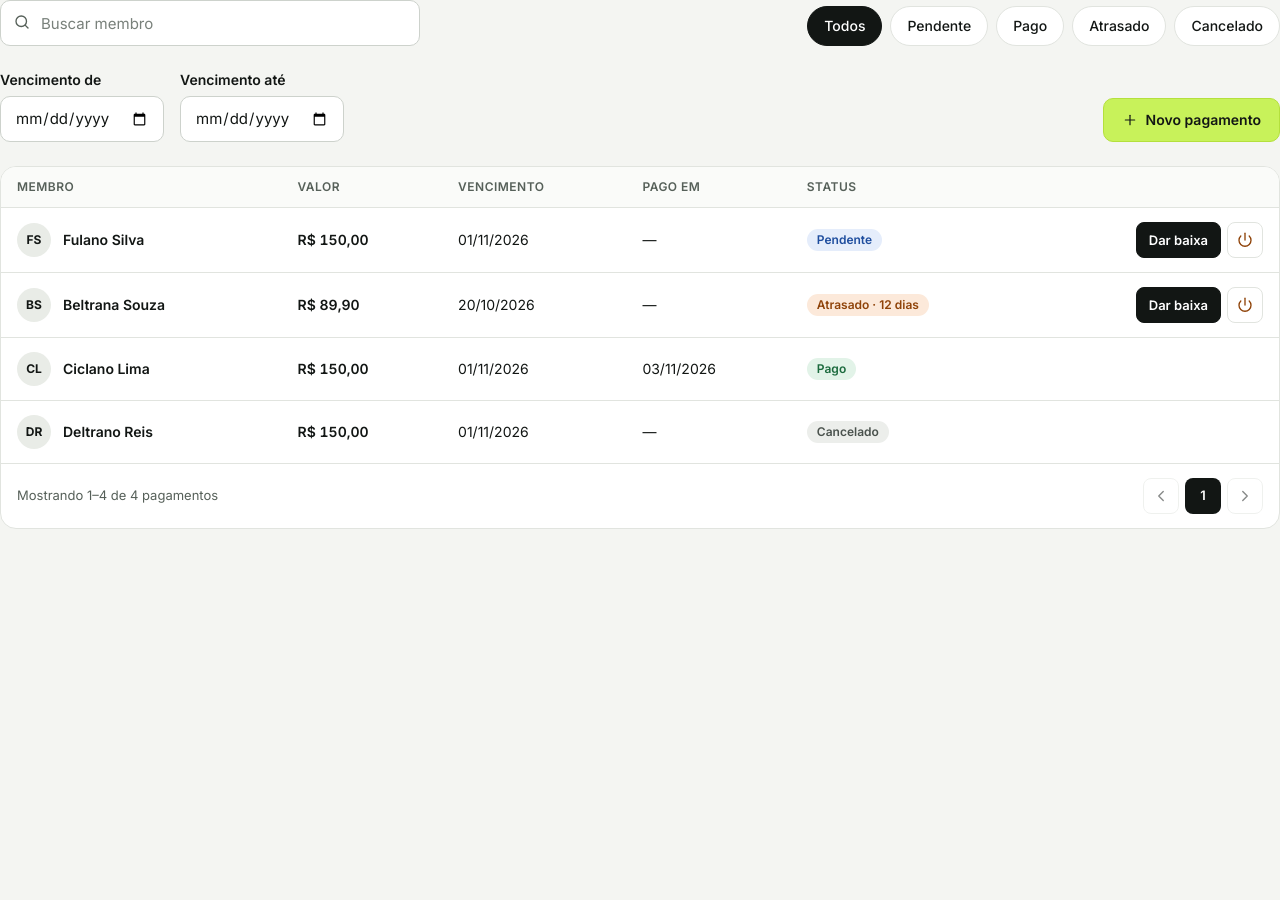
Scenario: TelaPagamentos › cancela o pagamento depois de confirmar, avisa e recarrega
Expected: the text "Beltrana Souza" is shown, [63, 295, 165, 315]
Click the button named "Cancelar pagamento de Beltrana Souza".
click(1245, 305)  # box [1227, 287, 1263, 323]
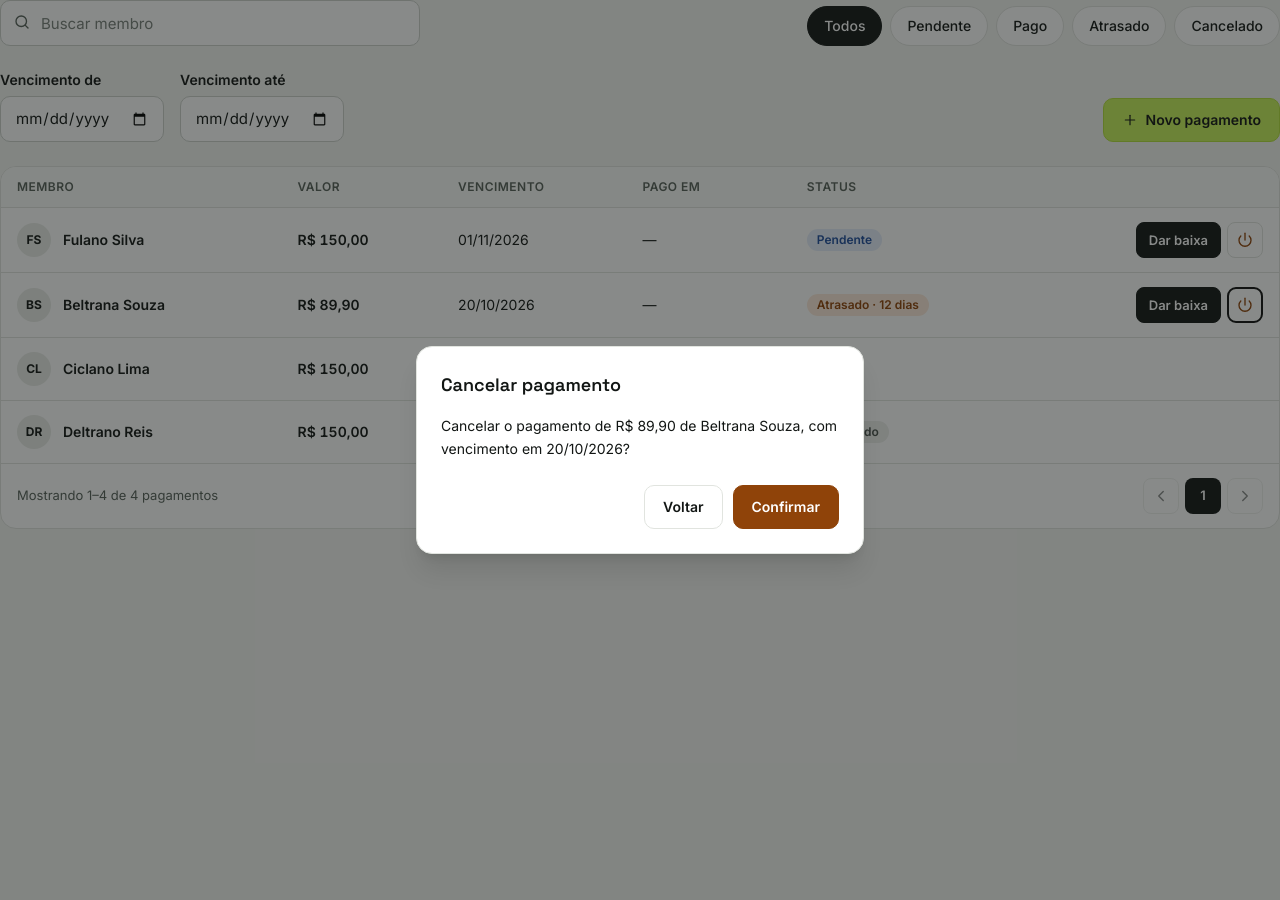
Click the button "Confirmar".
click(786, 507)  # box [732, 485, 839, 529]
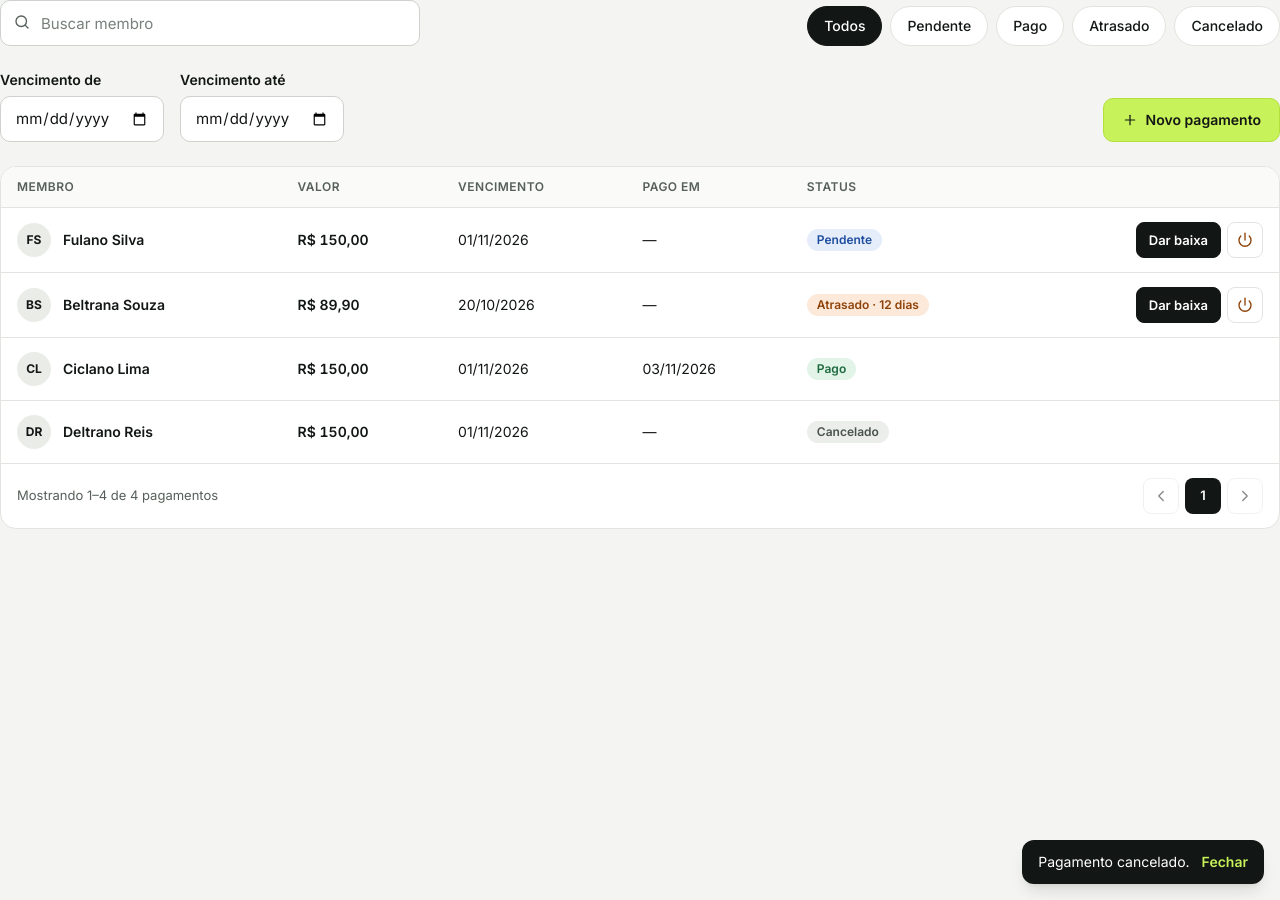
Now the text "Pagamento cancelado." is shown, box [1038, 852, 1190, 872]
Now the dialog is gone
